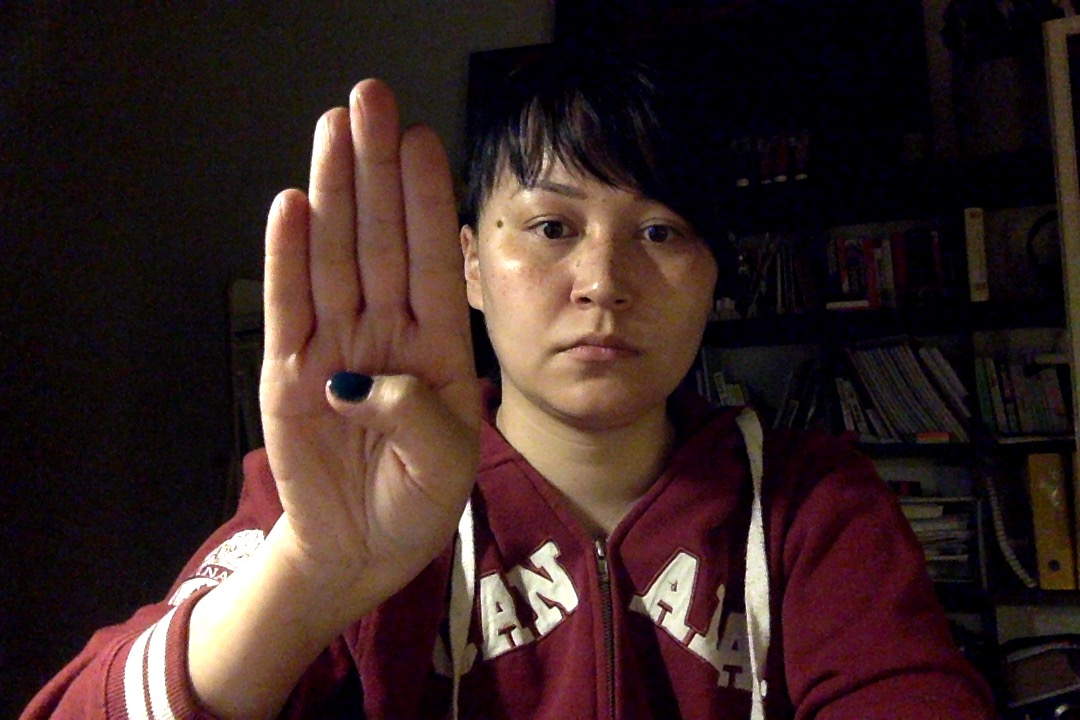b: (217, 60, 510, 606)
